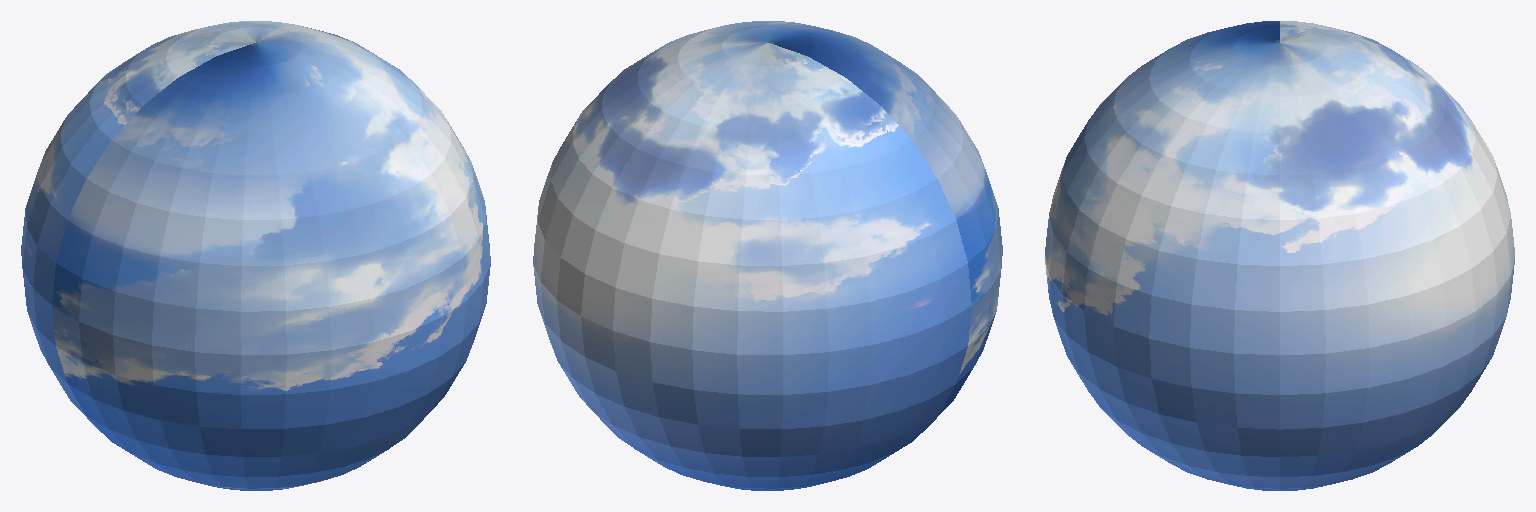
3 views of the same model, side by side, from view 1: azimuth 30°, elevation 25°; view 2: azimuth 150°, elevation 25°; view 3: azimuth 270°, elevation 25° (orthographic).
Visible parts, largest first — view 1: Sphere; view 2: Sphere; view 3: Sphere.
Boxes of the visible parts, x1,y1,x2,y2 form: Sphere: [21, 21, 490, 490]; Sphere: [533, 21, 1002, 490]; Sphere: [1045, 21, 1514, 490].
Bounding box in the file's own units: 2 × 2 × 2.
1 materials, 1 textured.